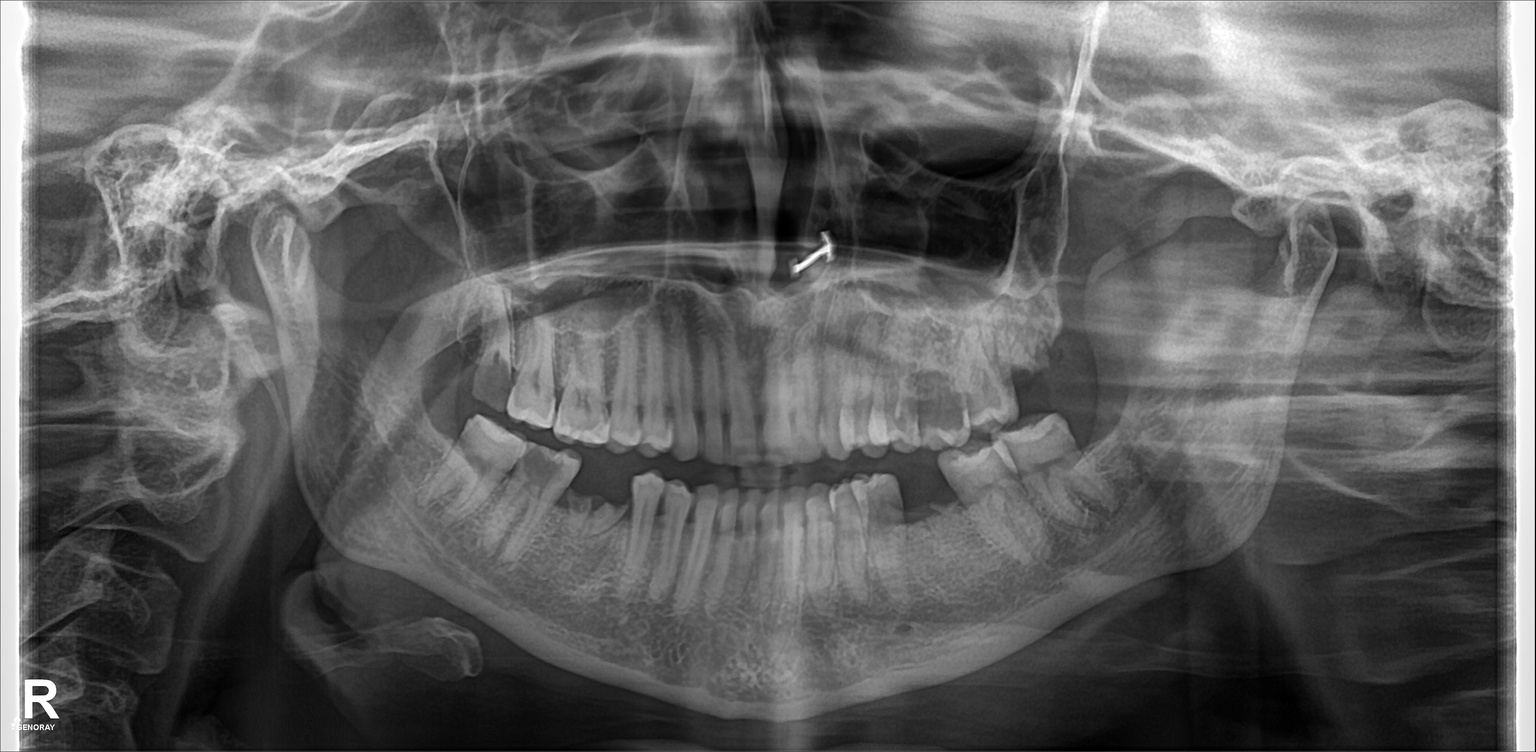Dental Caries: (892, 383, 953, 436), (484, 348, 514, 398)
Missing Tooth: (1017, 296, 1065, 396), (905, 463, 951, 562), (439, 307, 478, 404), (1075, 287, 1095, 389), (1086, 408, 1116, 466), (426, 395, 448, 460)
Retained Root: (588, 471, 627, 539), (562, 471, 587, 538)
